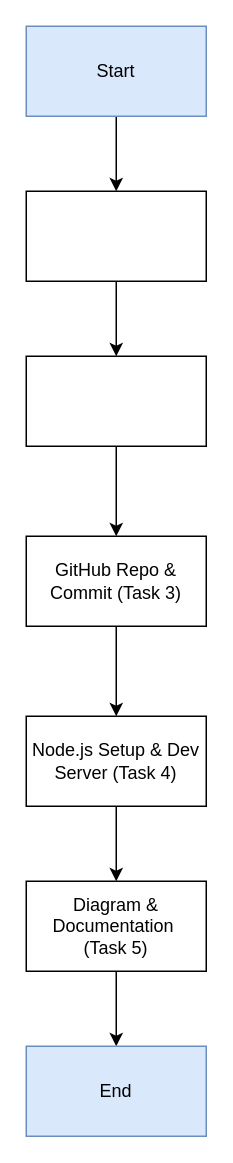
Image size: 233x1163. Some labels were removed from this diagram. Each missing label, with the centre of its shape:
SQL Server Setup (Task 2): [115,400]
VS Code Setup (Task 1): [115,235]
